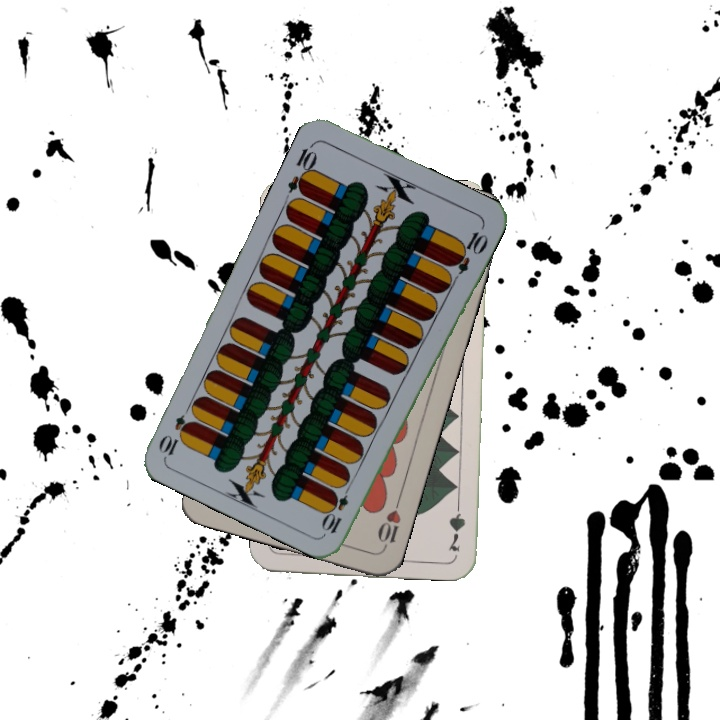E10: (283, 139, 320, 198), (320, 479, 354, 536)
G7: (444, 495, 468, 554)
H10: (373, 494, 404, 552)
